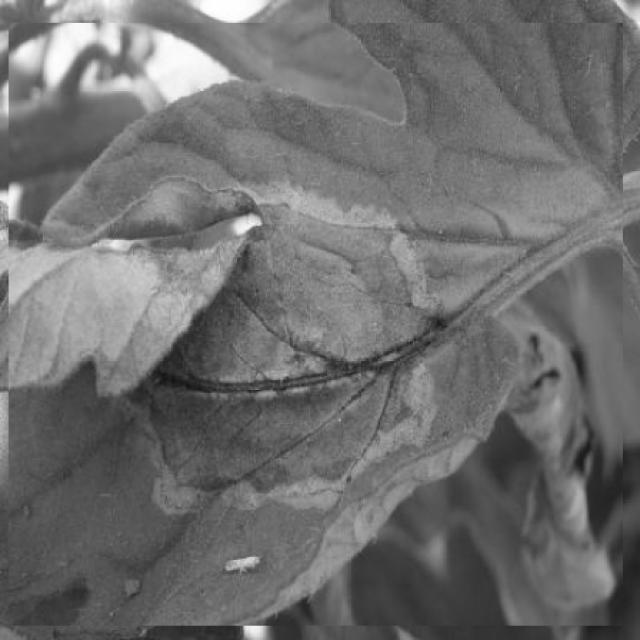Late Blight: (9, 24, 624, 626)
